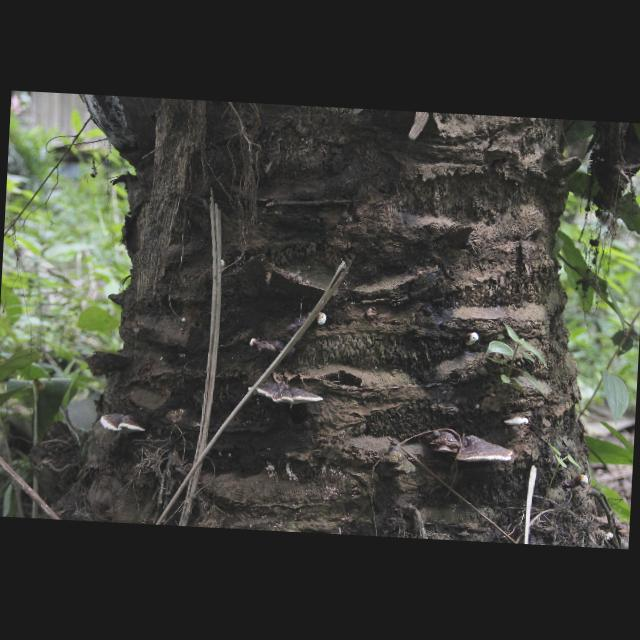ganoderma: (249, 380, 326, 408), (457, 436, 514, 466), (102, 414, 148, 436), (429, 431, 463, 455), (503, 415, 529, 428), (600, 531, 615, 542)
primordium: (465, 333, 480, 348), (576, 475, 590, 489), (317, 313, 328, 327), (222, 262, 228, 275), (251, 339, 258, 348)
